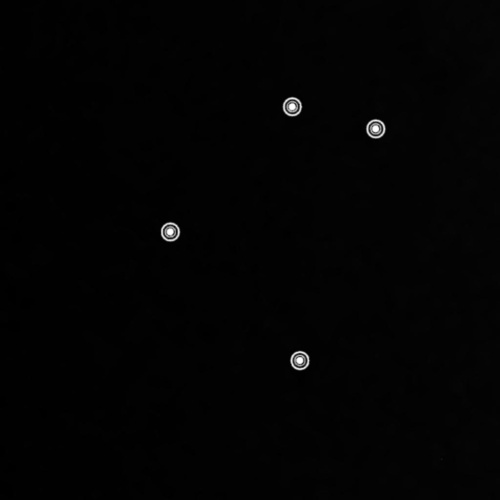coma_berenices: (155, 90, 390, 380)
